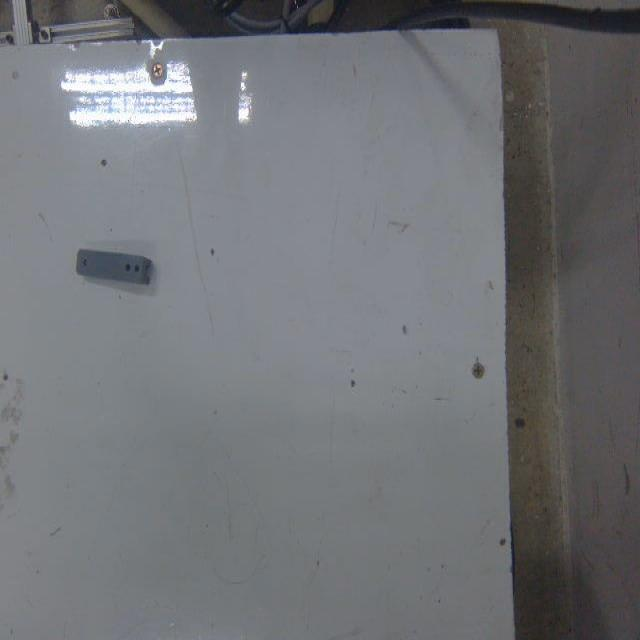grey: (75, 247, 154, 290)
head: (82, 258, 89, 267)
